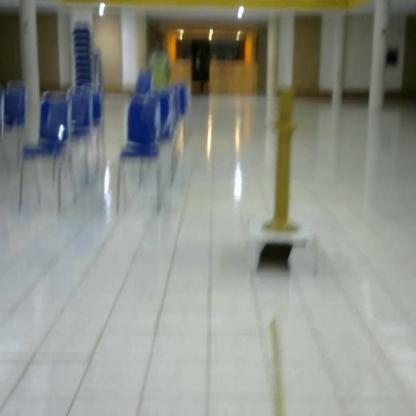pole: (256, 85, 314, 239)
